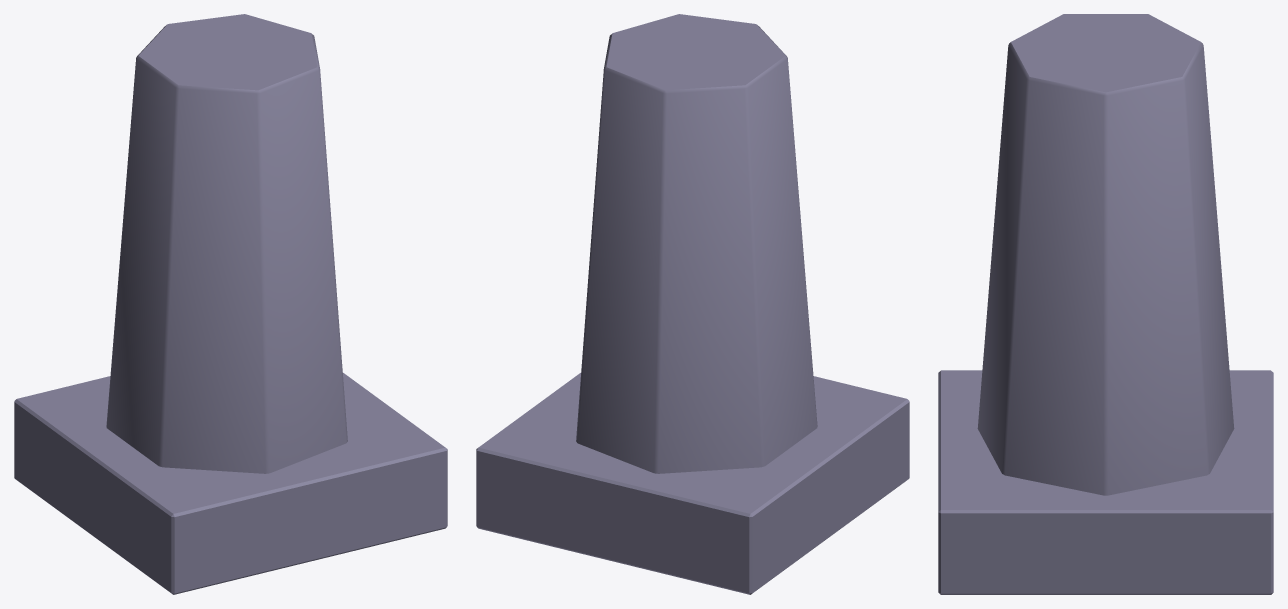
File: ruin_column_broken_01.glb
3 renders of one model, left to right at view 1: azimuth 30°, elevation 25°; view 2: azimuth 150°, elevation 25°; view 3: azimuth 270°, elevation 25°, orthographic. The views are drawn at different scales.
Visible parts, largest first — view 1: ruin_column_broken_01; view 2: ruin_column_broken_01; view 3: ruin_column_broken_01.
Boxes of the visible parts, x1,y1,x2,y2 form: ruin_column_broken_01: [14, 14, 447, 594]; ruin_column_broken_01: [476, 14, 909, 594]; ruin_column_broken_01: [938, 14, 1273, 594].
Size of the model in its own units: 0.5 by 0.78 by 0.5.
